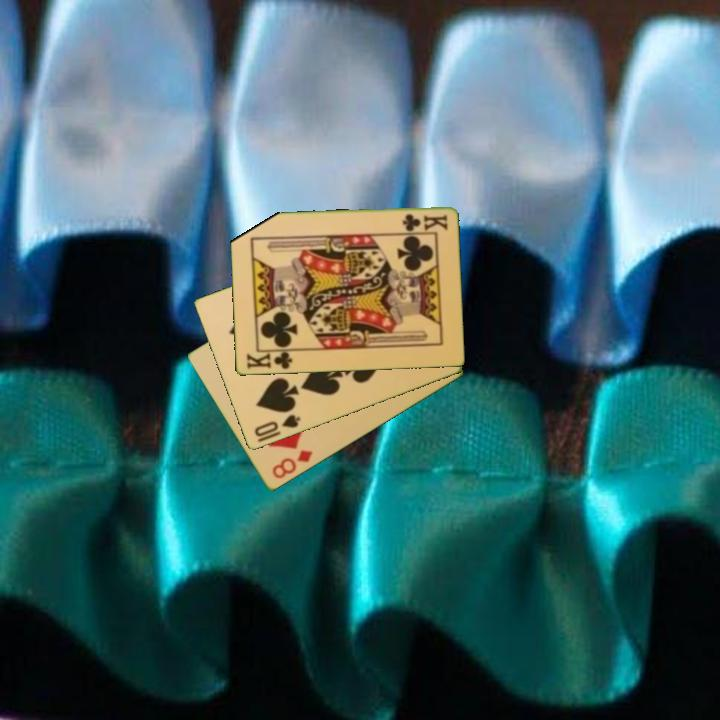10s: (251, 411, 303, 440)
8d: (268, 447, 315, 482)
Kc: (243, 347, 297, 372), (399, 211, 450, 233)
